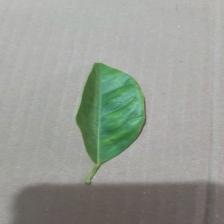greening: (69, 59, 147, 151)
